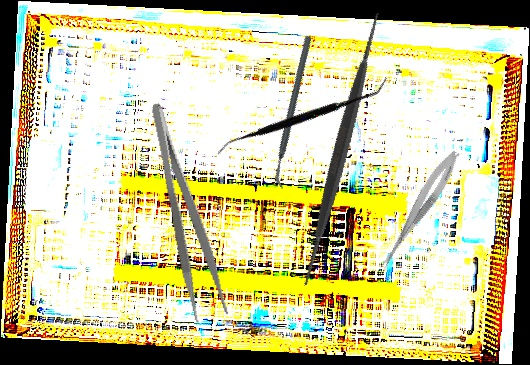Chopper: (223, 34, 365, 191)
Dressing Forceps: (145, 96, 231, 325)
Micro Scissor: (375, 146, 464, 276)
Spatula Surgical: (198, 5, 486, 293), (215, 23, 389, 209)
